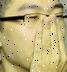with_mask: (2, 1, 67, 72)
